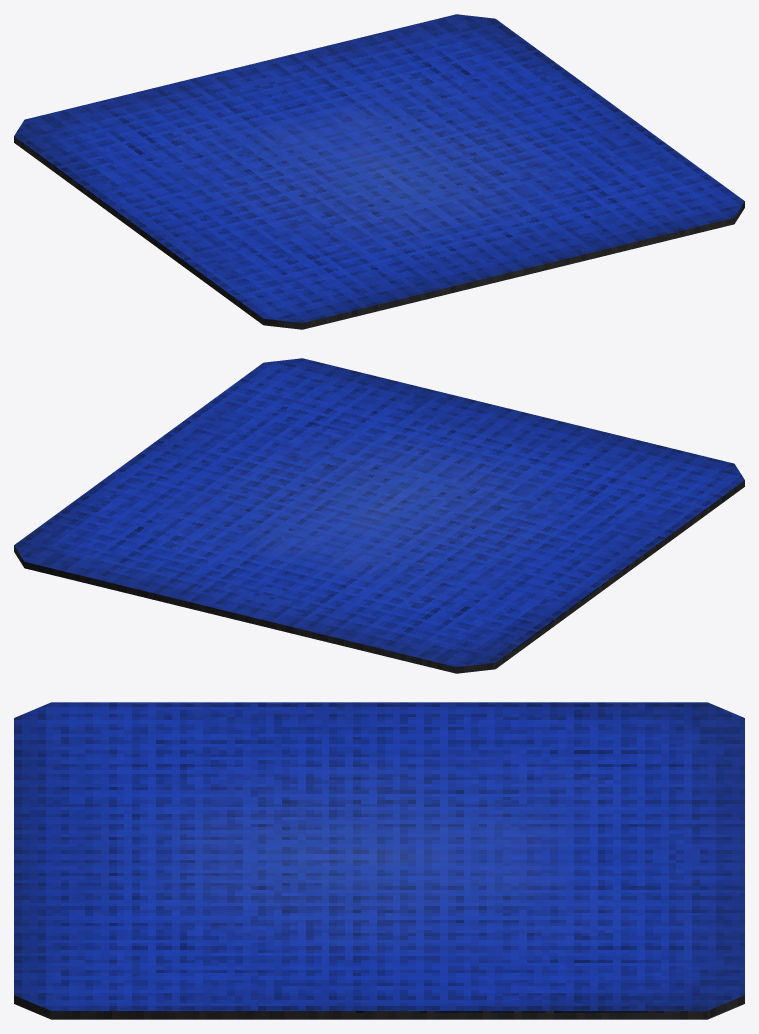
Rendered from MousePad.glb.
The picture shows the model from 3 angles, top to bottom: view 1: azimuth 30°, elevation 25°; view 2: azimuth 150°, elevation 25°; view 3: azimuth 270°, elevation 25°; orthographic projection. The views are drawn at different scales.
Visible parts, largest first — view 1: mouse pad; view 2: mouse pad; view 3: mouse pad.
Part boxes in pixels (x1,y1,x2,y2): mouse pad: (14, 14, 744, 329); mouse pad: (14, 358, 744, 673); mouse pad: (14, 702, 744, 1019).
Bounding box in the file's own units: 0.2144 × 0.00281 × 0.2144.
1 material, 1 textured.
